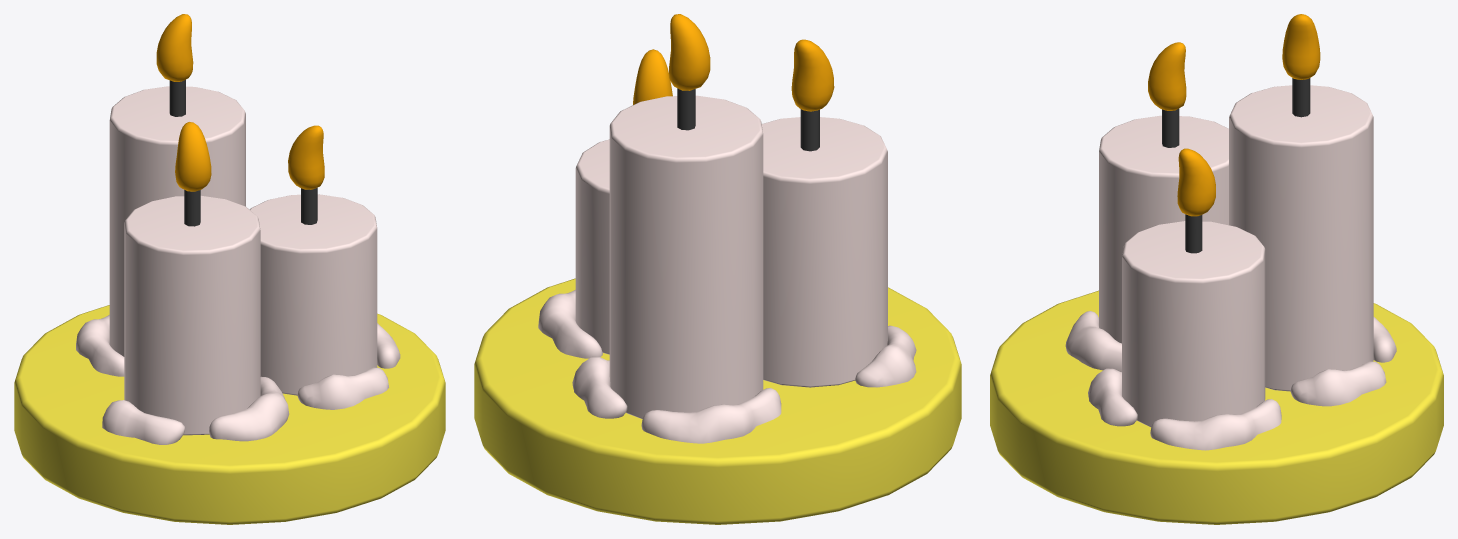
File: Town_17_Candles_1.glb
3 views of the same model, side by side, from view 1: azimuth 30°, elevation 25°; view 2: azimuth 150°, elevation 25°; view 3: azimuth 270°, elevation 25° (orthographic). The views are drawn at different scales.
Parts seen in each view (by area): view 1: Town_17_Candles_1; view 2: Town_17_Candles_1; view 3: Town_17_Candles_1.
Boxes of the visible parts, x1=… form: Town_17_Candles_1: x1=14, y1=14, x2=445, y2=524; Town_17_Candles_1: x1=474, y1=14, x2=961, y2=524; Town_17_Candles_1: x1=990, y1=14, x2=1443, y2=524.
Size of the model in its own units: 0.4005 by 0.4033 by 0.4005.
1 material, 1 textured.
